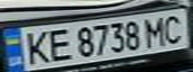3: (109, 20, 127, 54)
7: (90, 21, 112, 56)
8: (121, 18, 145, 52), (72, 24, 96, 57)
C: (157, 11, 190, 45)
E: (42, 26, 75, 63)
K: (18, 28, 51, 66)
M: (139, 14, 172, 47)
